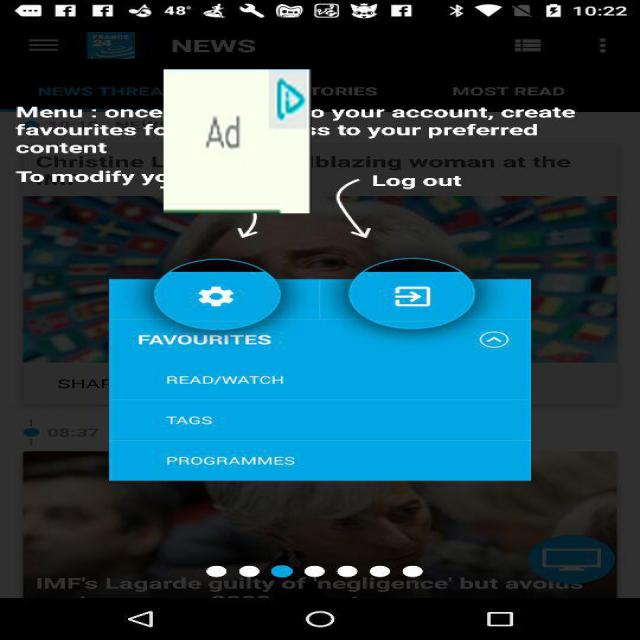sneaking: (164, 70, 312, 214)
